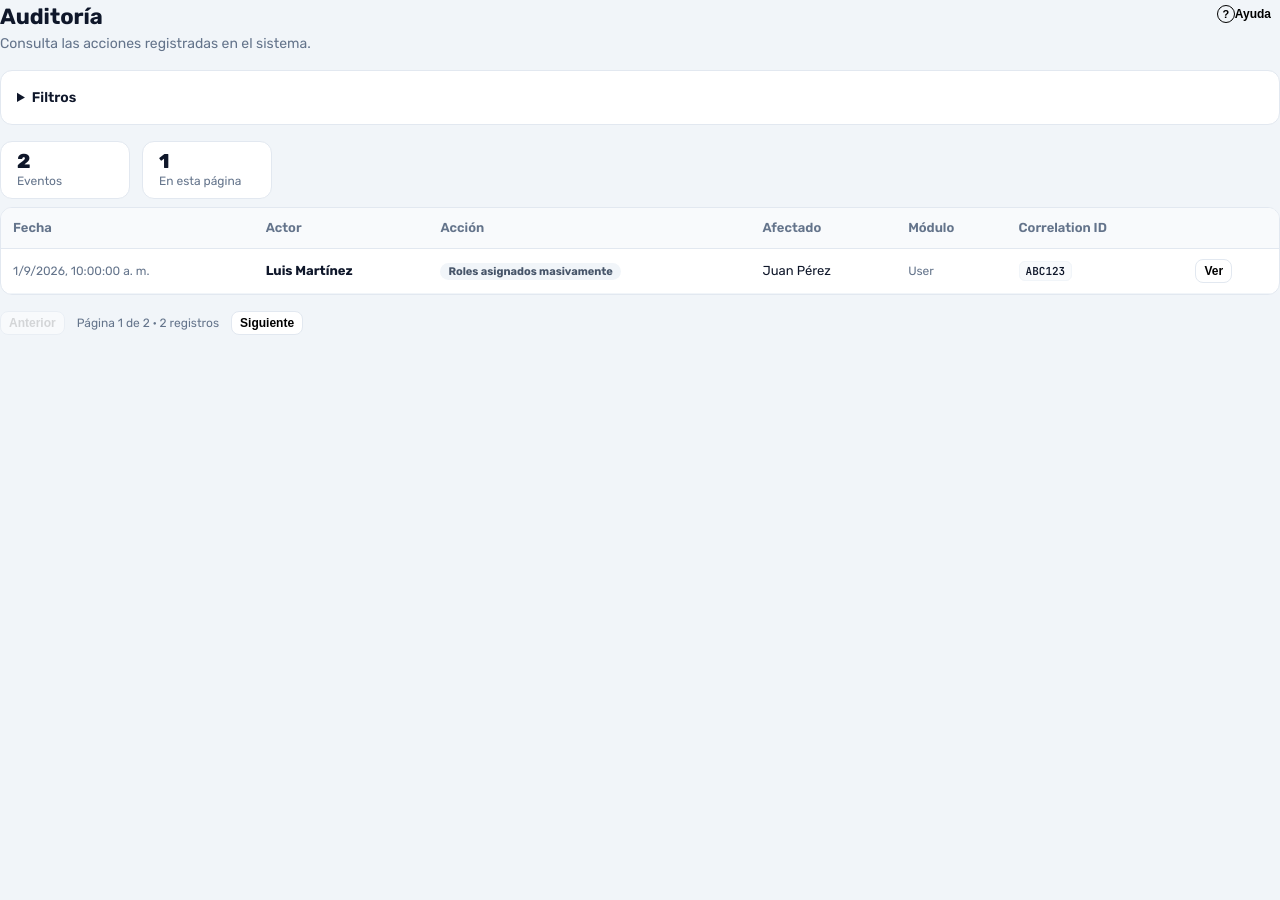
Test case: AuditoriaPage 10K › detalle redacta valores sensibles
Click the button "Ver".
click(1214, 270)  # box [1195,258,1232,282]
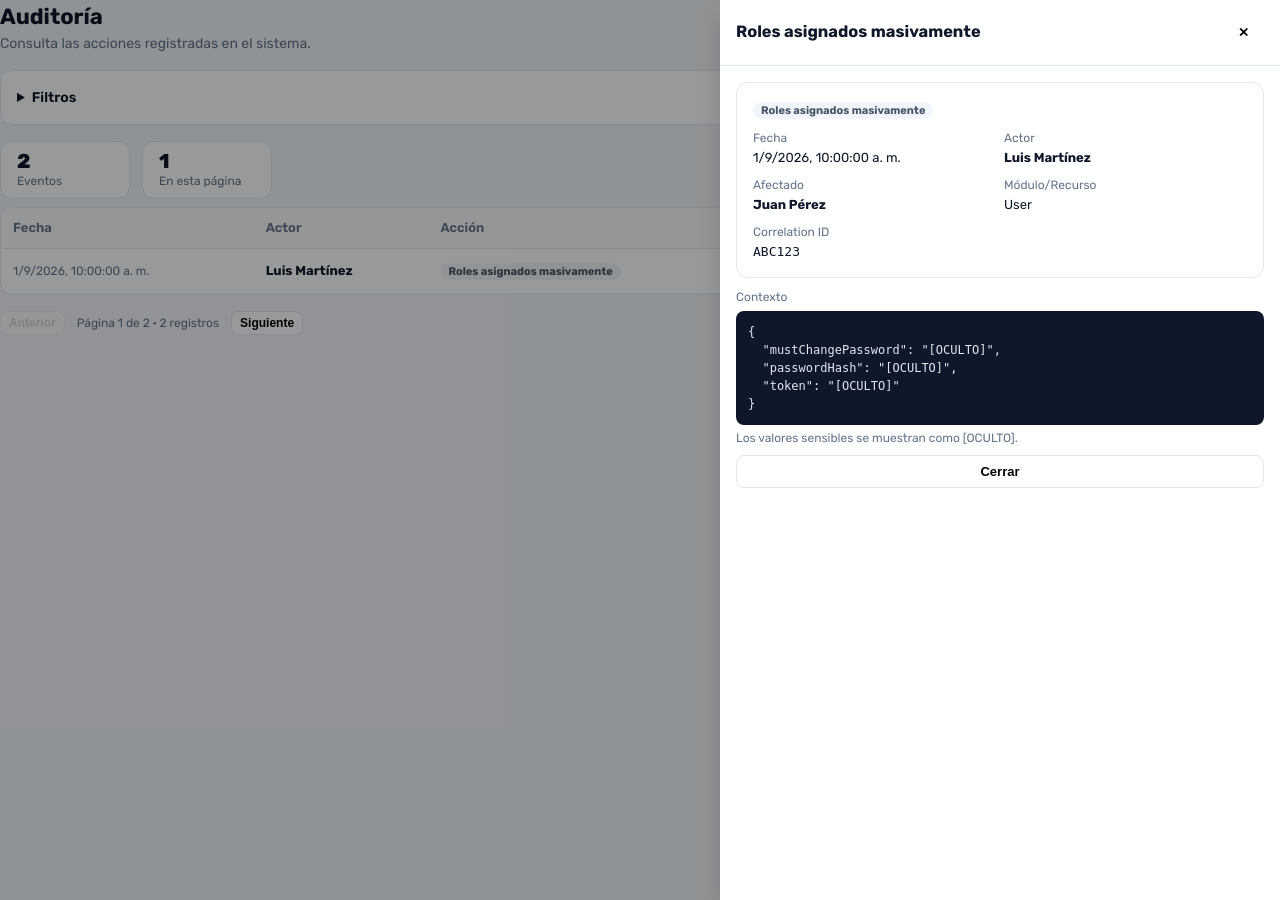
Check: the dialog is shown, box [720,0,1279,899]
Check: the text "[OCULTO]" is shown 2 times, box [736,311,1264,425]; [736,431,1018,445]
